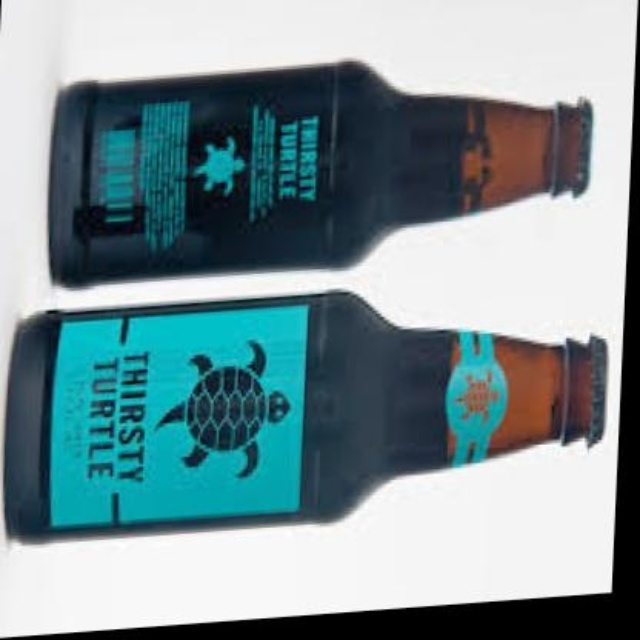trash: (5, 292, 606, 534), (49, 62, 591, 283)
